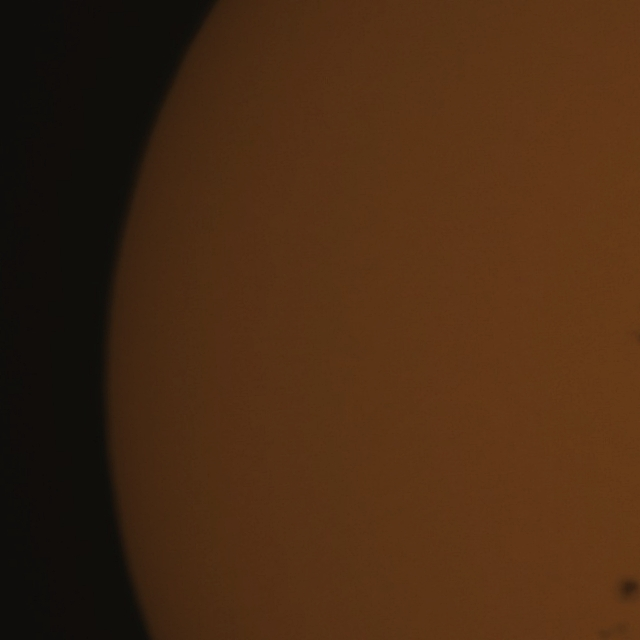sunspot: (609, 565, 640, 608), (597, 618, 636, 640)
